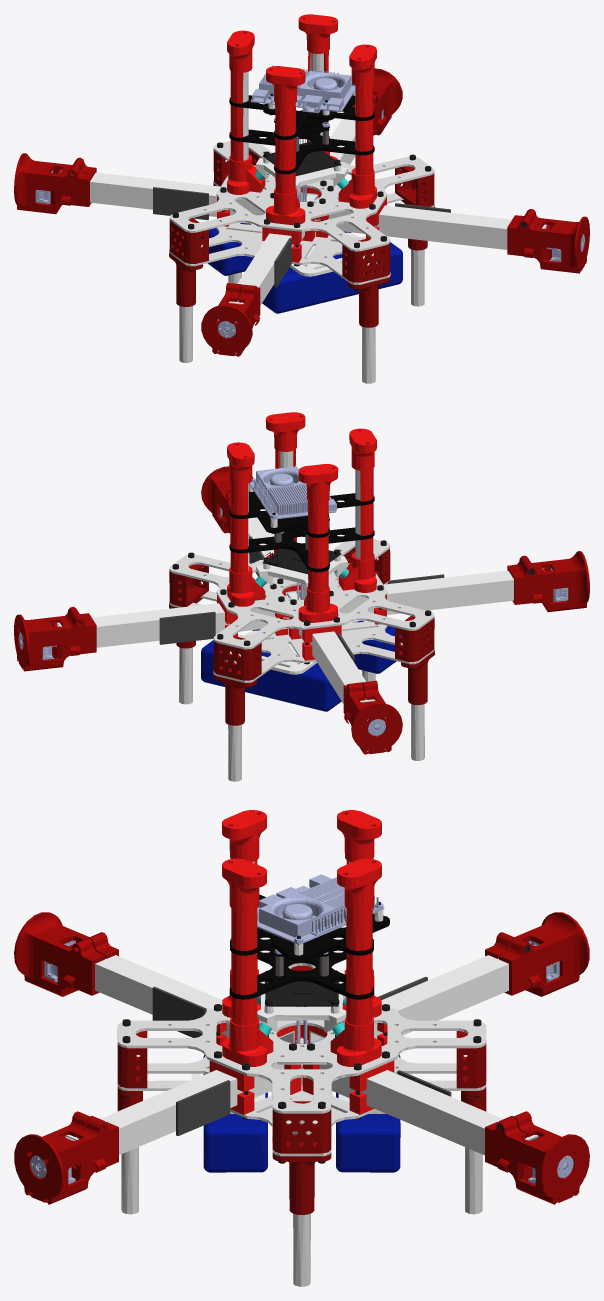
Rendered from base_link_beetle_art_omni.dae.
The picture shows the model from 3 angles, top to bottom: view 1: azimuth 30°, elevation 25°; view 2: azimuth 150°, elevation 25°; view 3: azimuth 270°, elevation 25°; orthographic projection. The views are drawn at different scales.
Parts seen in each view (by area): view 1: Shape_IndexedFaceSet.001; view 2: Shape_IndexedFaceSet.001; view 3: Shape_IndexedFaceSet.001.
Part boxes in pixels (x1,y1,x2,y2): Shape_IndexedFaceSet.001: [14, 14, 589, 383]; Shape_IndexedFaceSet.001: [14, 412, 589, 781]; Shape_IndexedFaceSet.001: [14, 810, 589, 1286].
Bounding box in the file's own units: 0.3913 × 0.3913 × 0.275.
